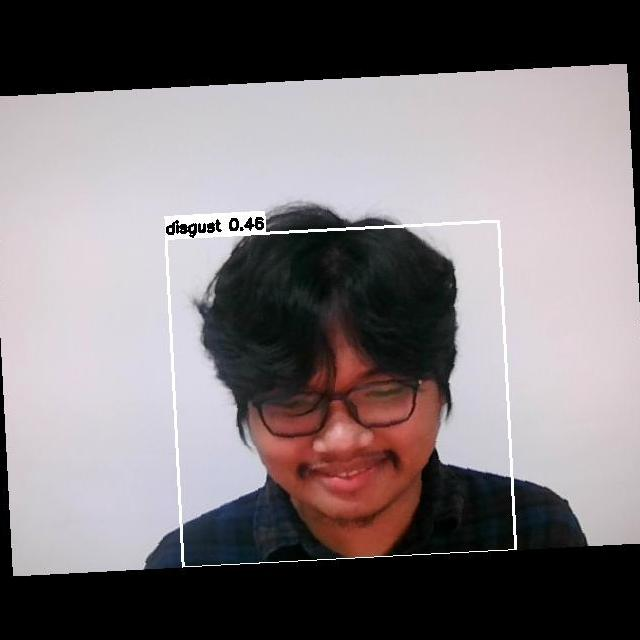Happy: (232, 351, 461, 523)
